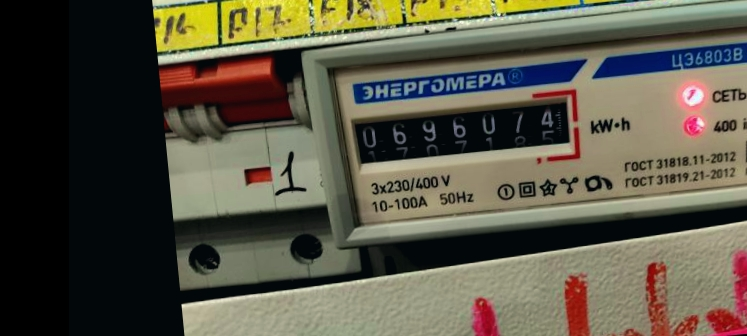0: (358, 123, 379, 149), (479, 109, 498, 136)
4: (537, 104, 555, 127)
5: (540, 129, 558, 145)
6: (450, 112, 470, 140), (390, 120, 409, 145)
7: (509, 107, 528, 134)
9: (420, 116, 438, 144)
screen: (340, 84, 586, 176)
